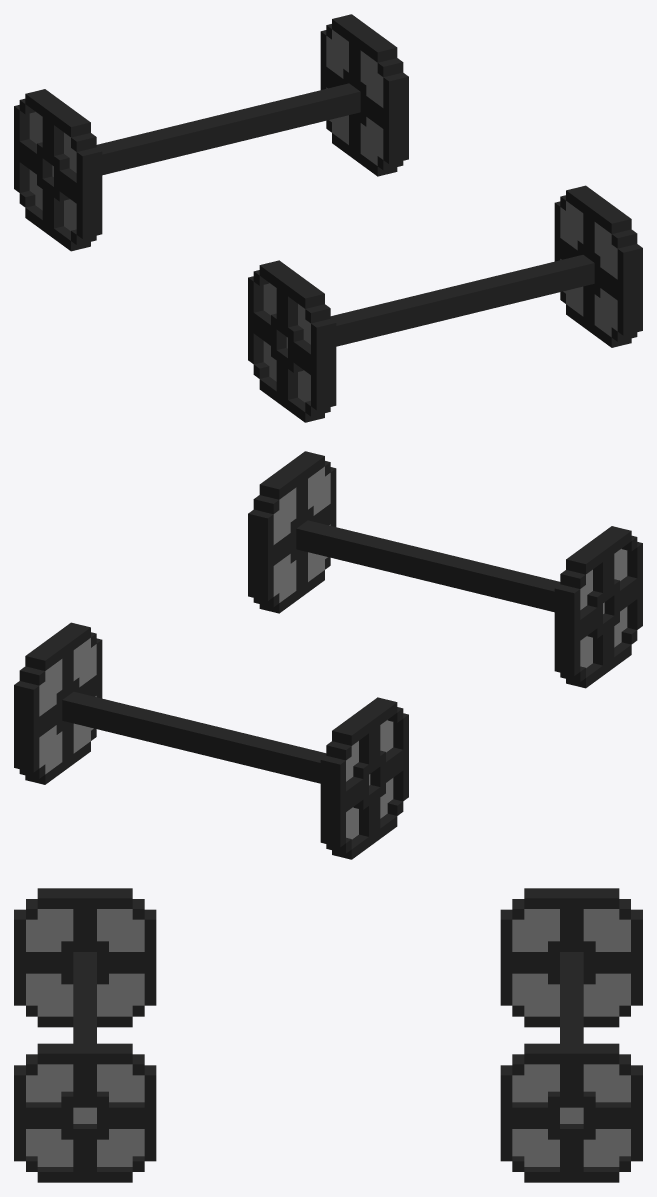
The model's file is Empilhadeira-1.obj.
3 views of the same model, one above another, from view 1: azimuth 30°, elevation 25°; view 2: azimuth 150°, elevation 25°; view 3: azimuth 270°, elevation 25° (orthographic). The views are drawn at different scales.
Size of the model in its own units: 3.3 by 1.2 by 5.3.
1 material, 1 textured.
